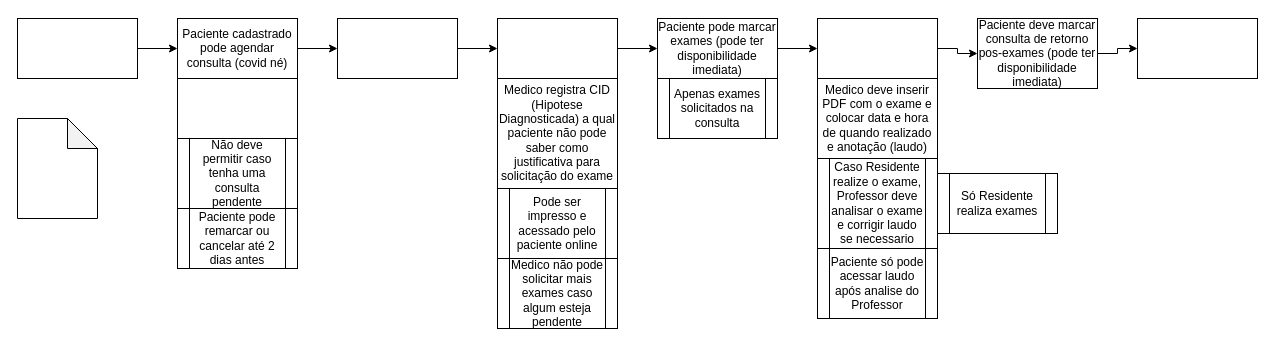
The diagram is 1275 pixels wide and 346 high, and some of its shapes have lost their labels. Each missing label, with the centre of its shape:
Fluxo: point (57, 168)
Paciente pode consultar laudo definitivo: point (1197, 48)
Paciente se cadastra no site: point (77, 48)
Paciente vai fazer o exame, caso falte deve pagar multa: point (877, 48)
Paciente vai no dia e hora marcado, caso falte deve pagar multa: point (397, 48)
Paciente é examinado por medico, o qual pode solicitar exames: point (557, 48)
Sistema deve gerenciar disponibilidade de vagas e horarios: point (237, 108)
